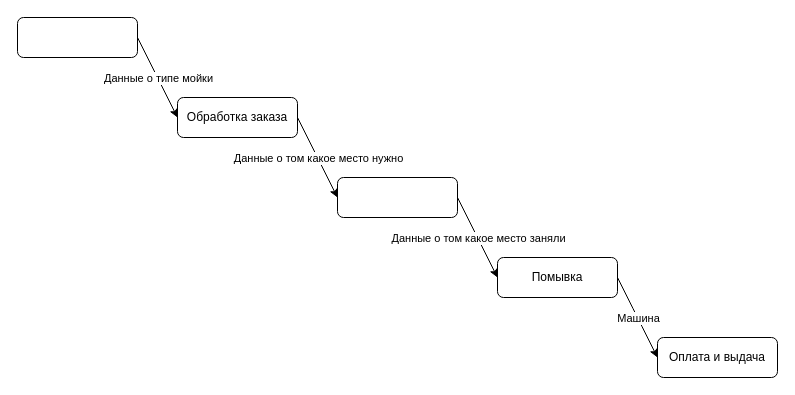
This 795x395 diagram has some shape labels left out. The shapes that lost their labels are listed below. From the top down, each one's centre as x and y in pixels, then its label:
At pixel 77 37: "Принятие заказа".
At pixel 397 197: "Выделение места для помывки".
